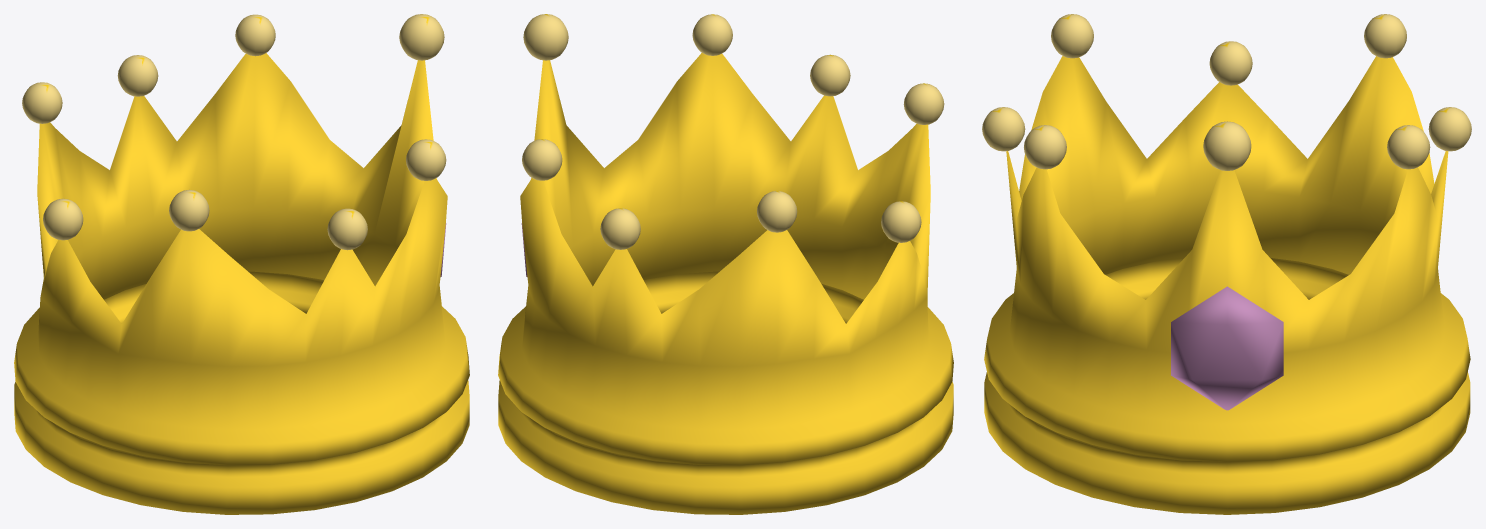
Rendered from crown.fbx.
3 renders of one model, left to right at view 1: azimuth 30°, elevation 25°; view 2: azimuth 150°, elevation 25°; view 3: azimuth 270°, elevation 25°, orthographic. The views are drawn at different scales.
Parts seen in each view (by area): view 1: crown; view 2: crown; view 3: crown.
Part boxes in pixels (x1=…): crown: x1=14, y1=14, x2=469, y2=514; crown: x1=498, y1=14, x2=953, y2=514; crown: x1=982, y1=14, x2=1471, y2=514.
Size of the model in its own units: 45.35 by 39.14 by 45.45.
